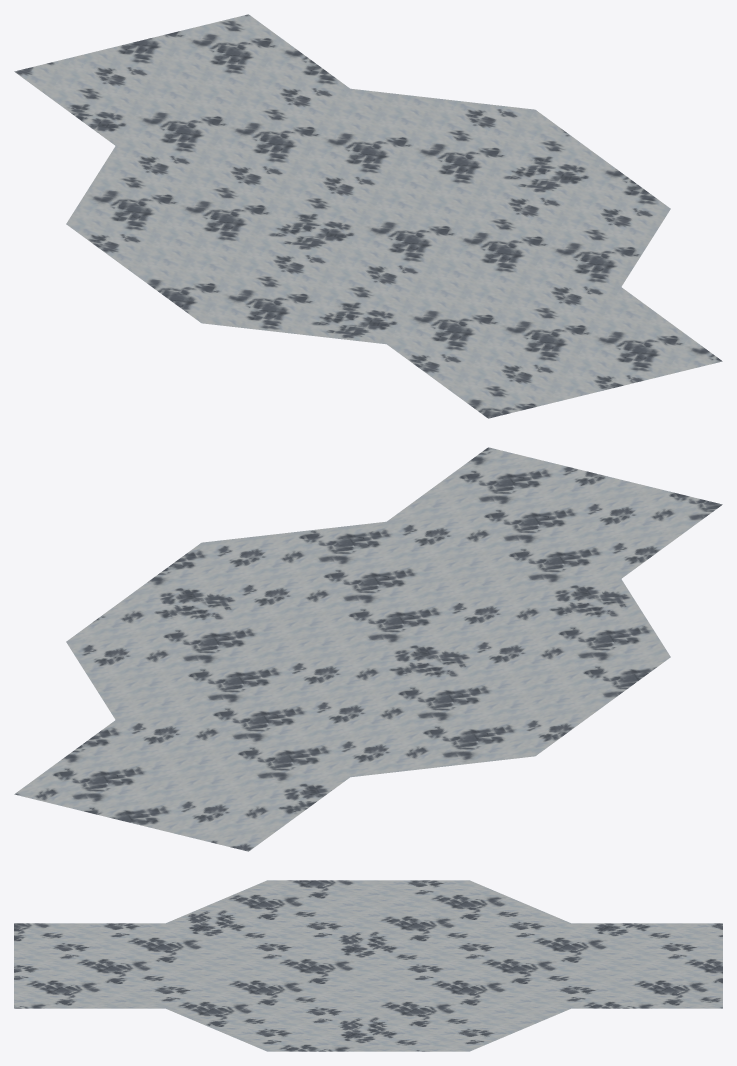
The model's file is oTerrainGroundMap03E.FBX.
3 views of the same model, one above another, from view 1: azimuth 30°, elevation 25°; view 2: azimuth 150°, elevation 25°; view 3: azimuth 270°, elevation 25° (orthographic). The views are drawn at different scales.
Visible parts, largest first — view 1: oTerrainGroundMap03E; view 2: oTerrainGroundMap03E; view 3: oTerrainGroundMap03E.
Part boxes in pixels (x1,y1,x2,y2): oTerrainGroundMap03E: (14, 14, 722, 418); oTerrainGroundMap03E: (14, 447, 722, 851); oTerrainGroundMap03E: (14, 880, 722, 1051).
Size of the model in its own units: 376 by 1.86e-13 by 658.
1 material, 1 textured.
